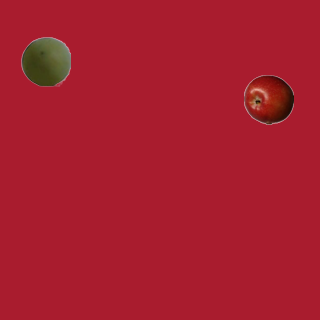Apple Braeburn: (243, 74, 293, 124)
Grape White 4: (20, 36, 70, 86)
